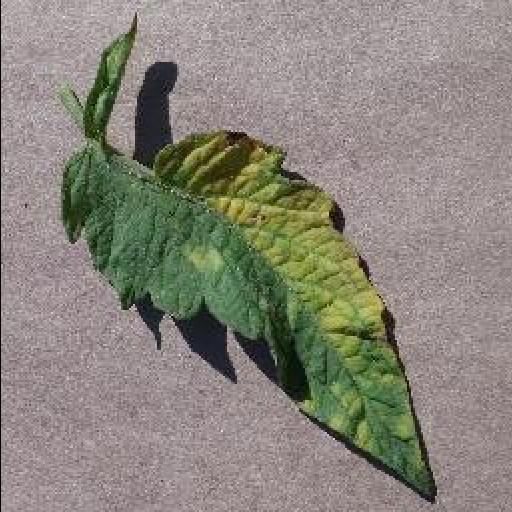disease_tomato: (61, 131, 435, 499)
